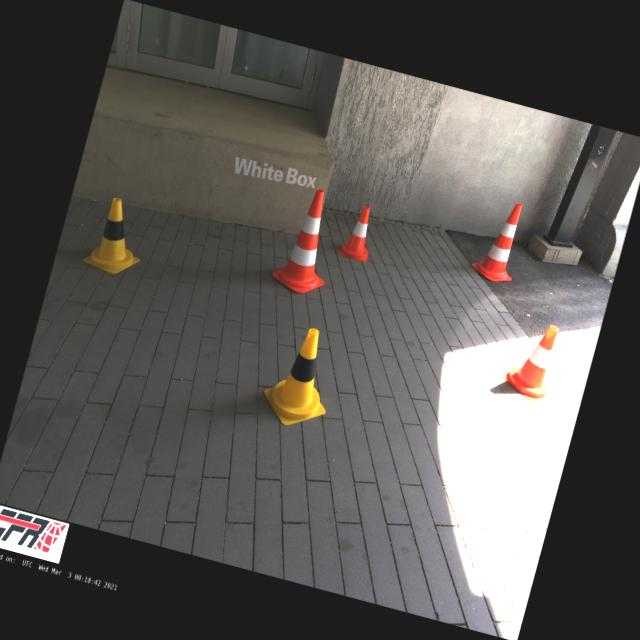large_orange_cone: (268, 182, 346, 298), (468, 196, 530, 285)
orange_cone: (497, 316, 568, 406), (337, 202, 380, 262)
yellow_cone: (256, 320, 345, 434), (80, 192, 154, 278)
